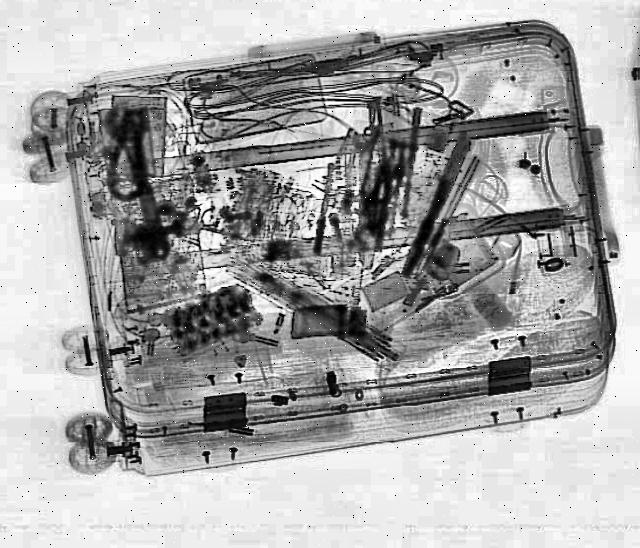Wrench: (100, 102, 184, 264), (352, 128, 382, 244)
